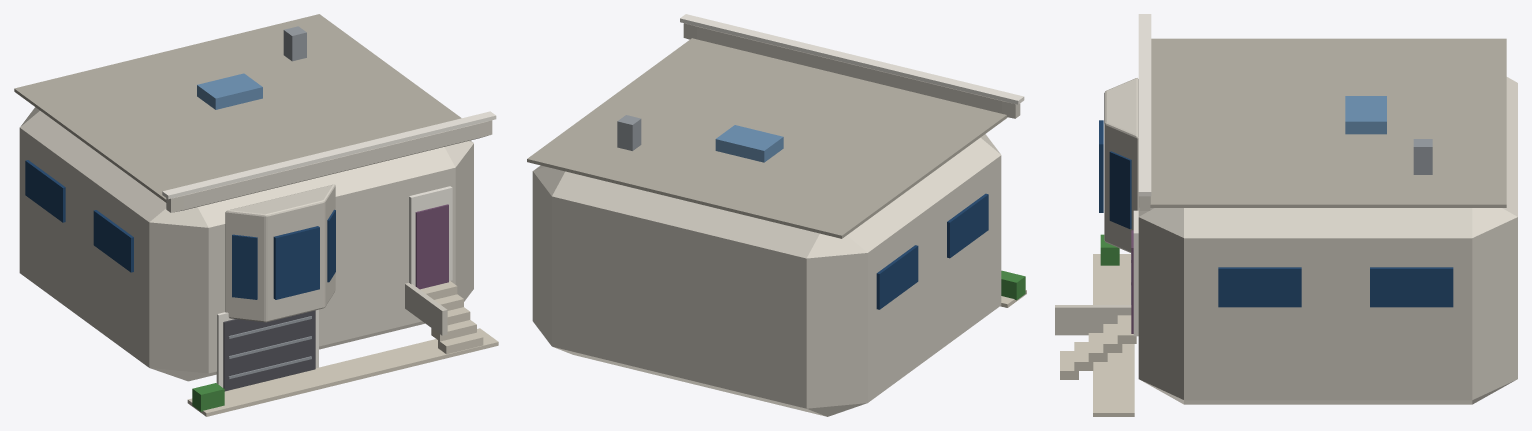
The model's file is sunset_w11_plain_bay.glb.
The picture shows the model from 3 angles, left to right: view 1: azimuth 30°, elevation 25°; view 2: azimuth 150°, elevation 25°; view 3: azimuth 270°, elevation 25°; orthographic projection. The views are drawn at different scales.
Visible parts, largest first — view 1: walls, roofslab, bay, patio, gdoor, pp1, pcap, bw, door, skylt, bwa, dfr (+9 smaller); view 2: walls, roofslab, pp1, pcap, skylt, sb.002, sb, pipe, hedge; view 3: walls, roofslab, patio, bay, sb.001, sb.003, pcap, srail, skylt, bwa.001, dfr, pipe (+7 smaller).
Part boxes in pixels (box(x1,y1,x2,y2)): walls: box(19, 107, 473, 381); roofslab: box(14, 14, 461, 202); bay: box(225, 184, 335, 322); patio: box(187, 328, 498, 416); gdoor: box(223, 310, 315, 391); pp1: box(166, 120, 492, 212); pcap: box(162, 111, 496, 199); bw: box(273, 226, 319, 299); door: box(415, 204, 448, 289); skylt: box(197, 73, 262, 109); bwa: box(232, 234, 257, 299); dfr: box(409, 186, 452, 285); walls: box(532, 134, 1001, 416); roofslab: box(527, 38, 1007, 238); pp1: box(683, 23, 1020, 118); pcap: box(680, 14, 1024, 104); skylt: box(715, 125, 783, 162); sb.002: box(876, 245, 918, 309); sb: box(947, 193, 988, 258); pipe: box(617, 115, 641, 150); hedge: box(1001, 270, 1025, 300); walls: box(1138, 77, 1517, 404); roofslab: box(1150, 38, 1506, 207); patio: box(1093, 254, 1134, 416); bay: box(1104, 78, 1138, 252); sb.001: box(1218, 267, 1301, 307); sb.003: box(1370, 267, 1453, 307); pcap: box(1138, 14, 1151, 196); srail: box(1055, 305, 1131, 335); skylt: box(1345, 96, 1386, 134); bwa.001: box(1109, 151, 1131, 228); dfr: box(1133, 210, 1138, 336); pipe: box(1413, 139, 1432, 174).
Bounding box in the file's own units: 11.2 × 7.1 × 12.2.
